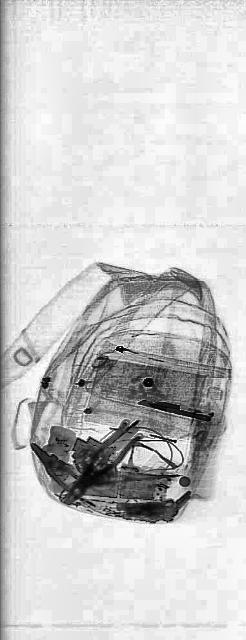Pliers: (61, 404, 142, 518), (27, 428, 84, 507)
